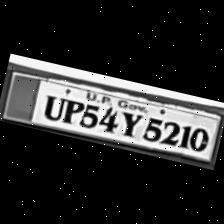0: (182, 121, 211, 152)
1: (177, 119, 194, 150)
2: (158, 116, 184, 148)
4: (96, 101, 121, 134)
5: (139, 111, 166, 144), (76, 97, 102, 130)
P: (58, 92, 83, 124)
U: (37, 88, 67, 122)
Y: (115, 104, 144, 138)
